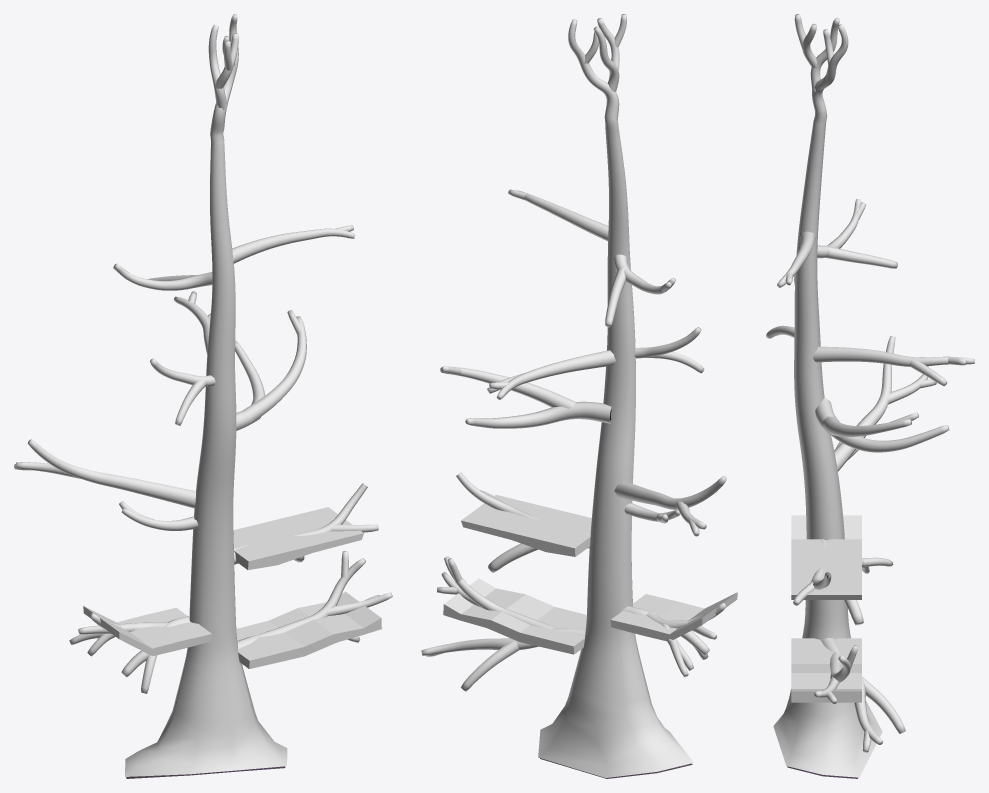
The model's file is ArbrePlatform2.fbx.
3 views of the same model, side by side, from view 1: azimuth 30°, elevation 25°; view 2: azimuth 150°, elevation 25°; view 3: azimuth 270°, elevation 25° (orthographic).
Parts seen in each view (by area): view 1: tree, MeshBranch1, MeshBranch3, tree.001, MeshBranch2, Branch1, Branch2, Branch3; view 2: tree, MeshBranch1, MeshBranch3, Branch1, MeshBranch2, tree.001, Branch2, Branch3; view 3: tree, MeshBranch3, MeshBranch1, Branch1, tree.001, Branch3, MeshBranch2.
Boxes of the visible parts, left/top/right/bottom form: tree: left=113, top=14, right=355, bottom=778; MeshBranch1: left=236, top=591, right=381, bottom=668; MeshBranch3: left=233, top=507, right=363, bottom=569; tree.001: left=14, top=439, right=198, bottom=530; MeshBranch2: left=83, top=606, right=211, bottom=656; Branch1: left=237, top=551, right=392, bottom=648; Branch2: left=69, top=613, right=190, bottom=693; Branch3: left=234, top=483, right=378, bottom=564; tree: left=440, top=14, right=704, bottom=778; MeshBranch1: left=443, top=578, right=586, bottom=654; MeshBranch3: left=461, top=494, right=591, bottom=556; Branch1: left=421, top=556, right=585, bottom=691; MeshBranch2: left=610, top=592, right=737, bottom=641; tree.001: left=614, top=476, right=726, bottom=536; Branch2: left=622, top=603, right=726, bottom=677; Branch3: left=456, top=472, right=590, bottom=572; tree: left=766, top=14, right=974, bottom=778; MeshBranch3: left=791, top=539, right=861, bottom=599; MeshBranch1: left=791, top=638, right=861, bottom=702; Branch1: left=814, top=637, right=905, bottom=752; tree.001: left=834, top=336, right=936, bottom=471; Branch3: left=793, top=539, right=863, bottom=625; MeshBranch2: left=791, top=515, right=861, bottom=539.
Size of the model in its own units: 1053 by 2313 by 591.
2 materials, 1 textured.
